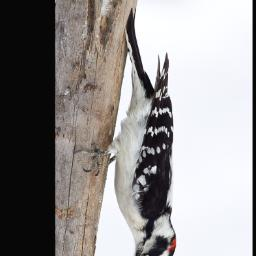Woodpecker: (73, 6, 179, 256)
